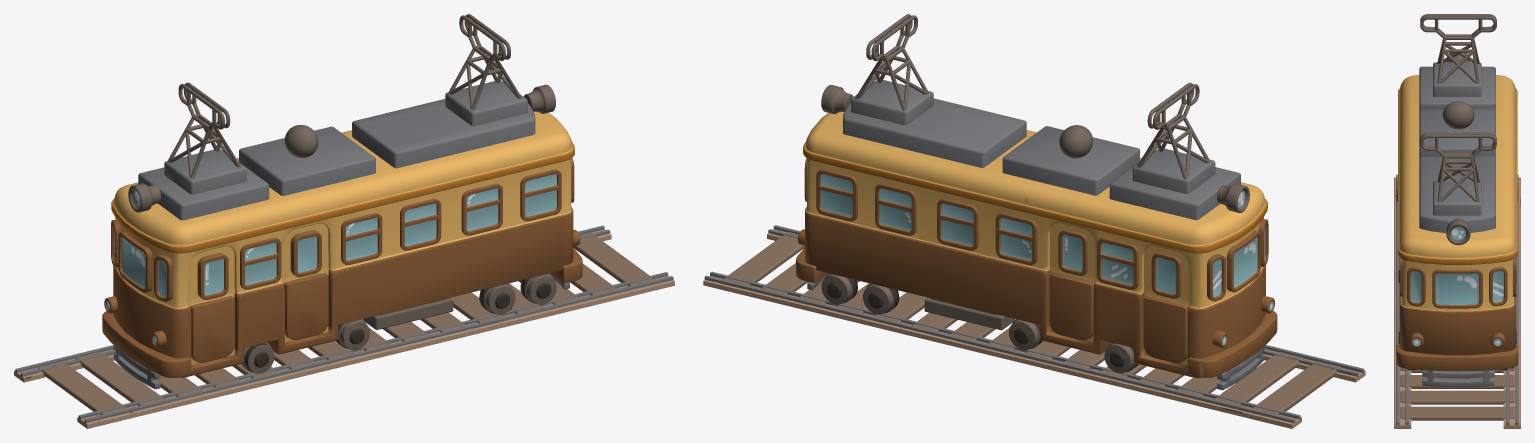
Rendered from hwarangdae.glb.
3 views of the same model, side by side, from view 1: azimuth 30°, elevation 25°; view 2: azimuth 150°, elevation 25°; view 3: azimuth 270°, elevation 25° (orthographic). The views are drawn at different scales.
Parts seen in each view (by area): view 1: SeoulEdition_25_8; view 2: SeoulEdition_25_8; view 3: SeoulEdition_25_8.
Part boxes in pixels (bbox=[...]): SeoulEdition_25_8: bbox=[14, 14, 674, 428]; SeoulEdition_25_8: bbox=[703, 14, 1365, 428]; SeoulEdition_25_8: bbox=[1394, 14, 1520, 428].
Size of the model in its own units: 36.84 by 16.01 by 7.96.
15 materials, 15 textured.
